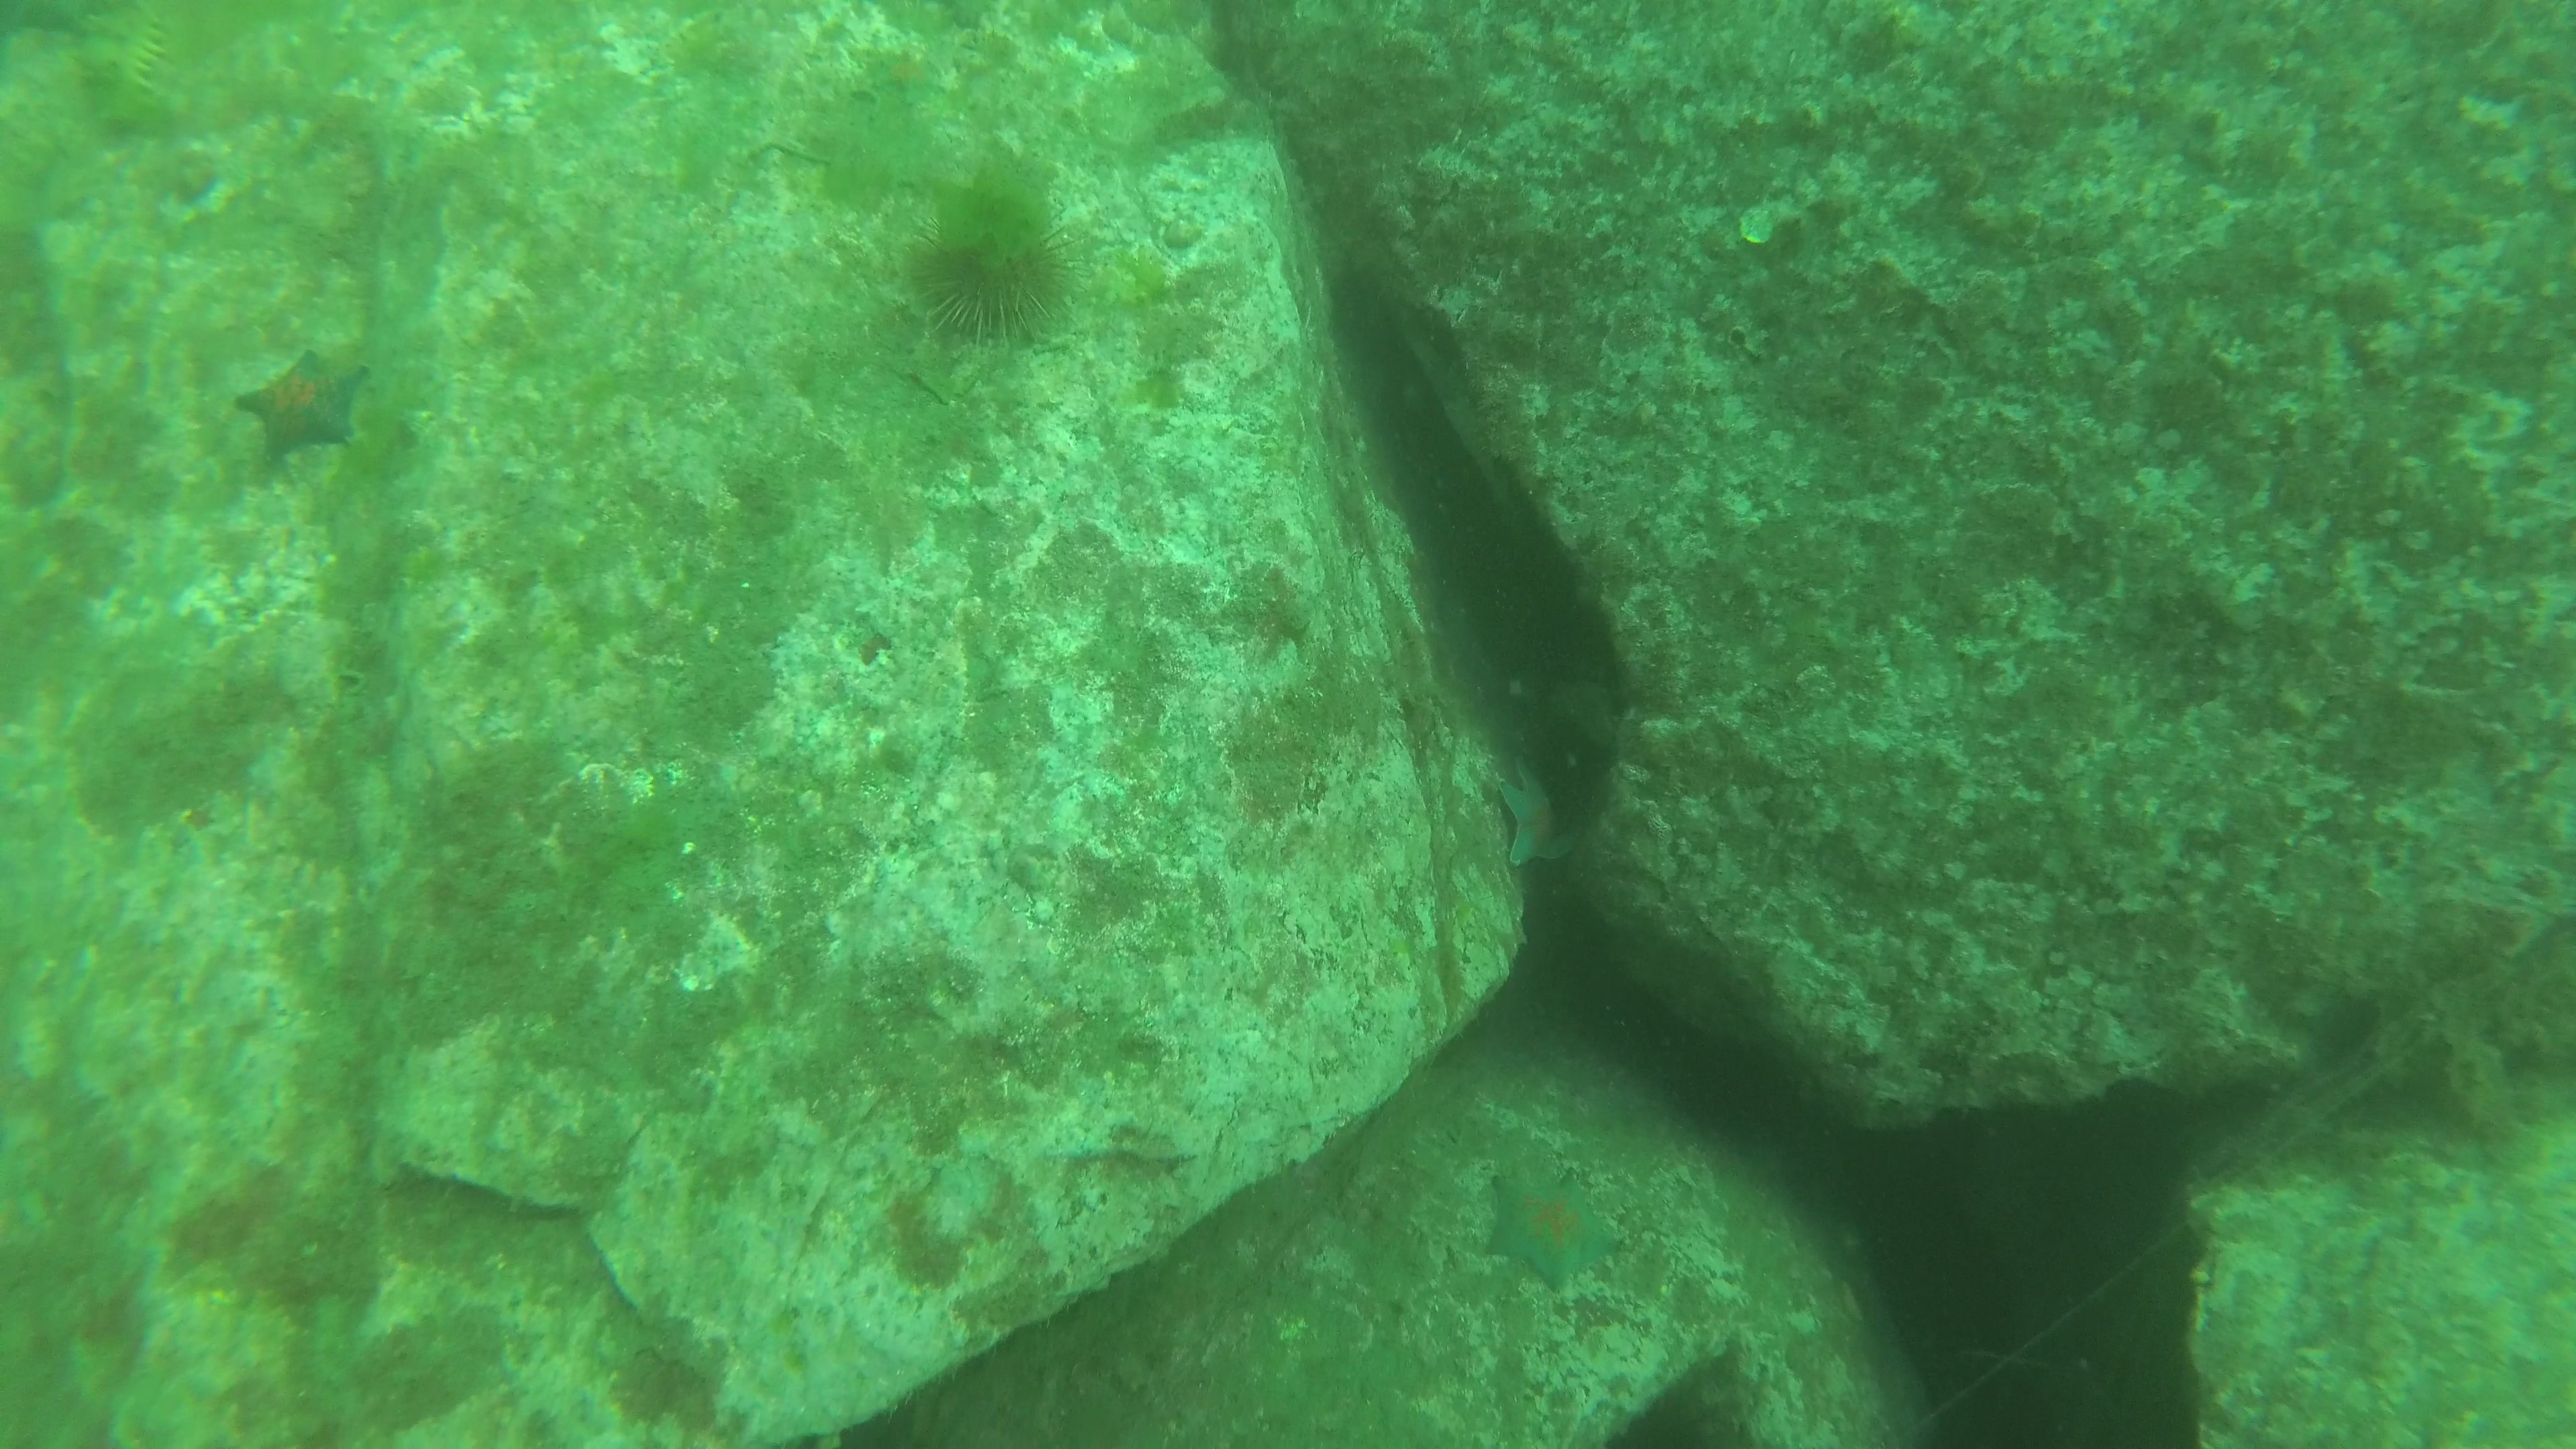echinus: (901, 193, 1077, 356)
holothurian: (96, 4, 159, 122)
starfish: (1490, 1162, 1631, 1299), (239, 352, 364, 467), (1488, 747, 1575, 869), (855, 44, 943, 113)
